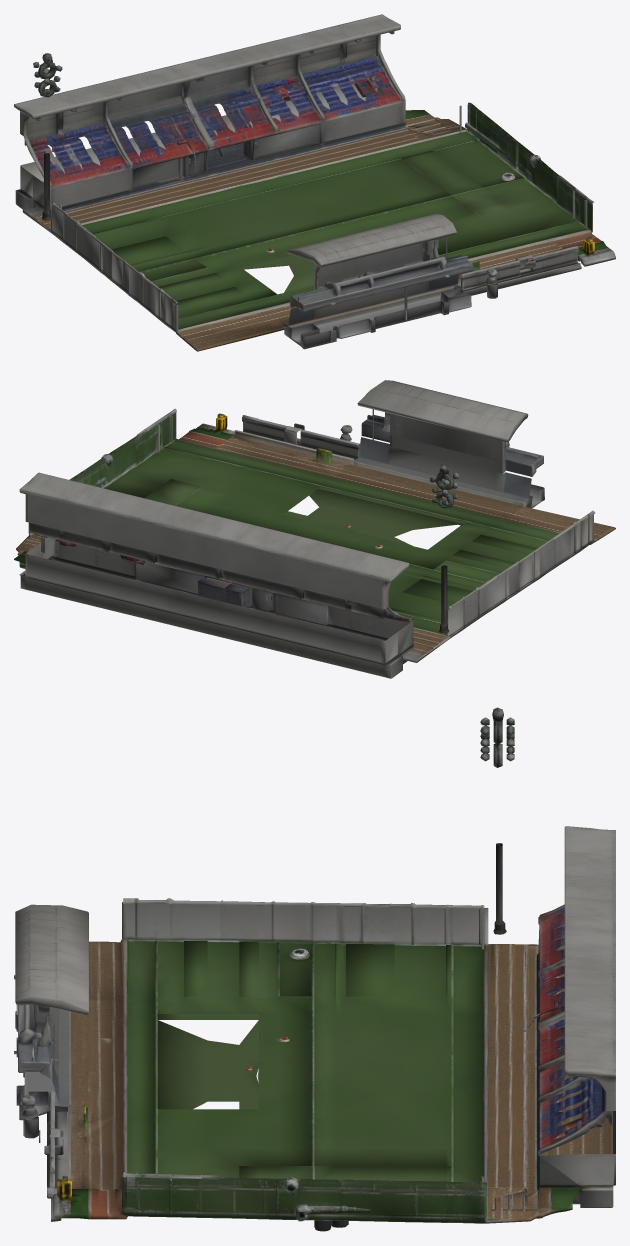
File: vasariste-stadium.glb
The picture shows the model from 3 angles, top to bottom: view 1: azimuth 30°, elevation 25°; view 2: azimuth 150°, elevation 25°; view 3: azimuth 270°, elevation 25°; orthographic projection. The views are drawn at different scales.
Visible parts, largest first — view 1: tripo_node_b87ac844-577e-4e58-8b0b-0e03af4412d6; view 2: tripo_node_b87ac844-577e-4e58-8b0b-0e03af4412d6; view 3: tripo_node_b87ac844-577e-4e58-8b0b-0e03af4412d6.
Part boxes in pixels (bbox=[...]): tripo_node_b87ac844-577e-4e58-8b0b-0e03af4412d6: bbox=[14, 14, 615, 351]; tripo_node_b87ac844-577e-4e58-8b0b-0e03af4412d6: bbox=[14, 380, 615, 678]; tripo_node_b87ac844-577e-4e58-8b0b-0e03af4412d6: bbox=[14, 707, 615, 1231].
Bounding box in the file's own units: 5.88 × 2.5 × 5.26.
Materials: 1 (1 with a texture image).
